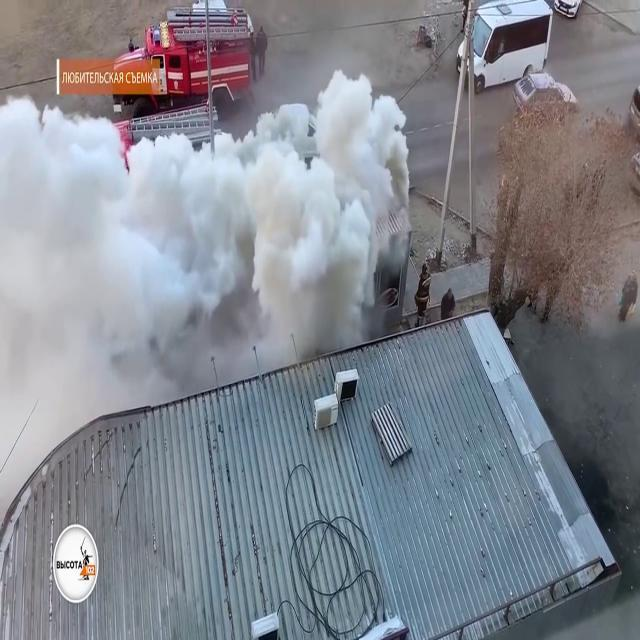Smoke: (1, 57, 414, 369)
